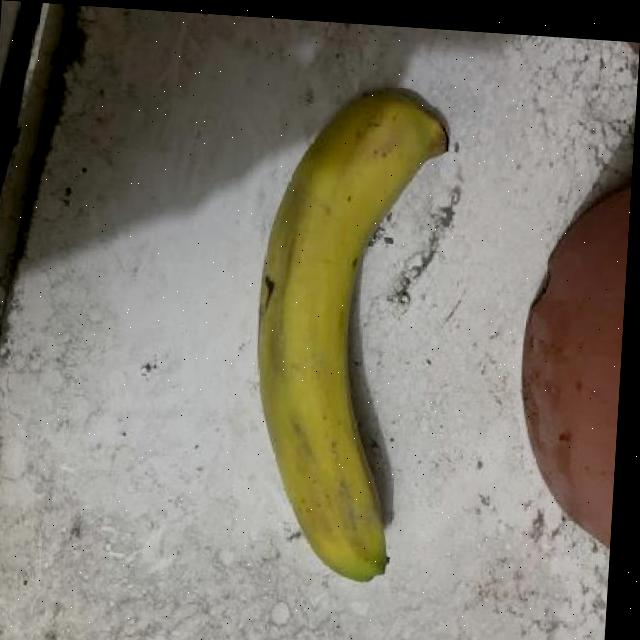banana: (234, 74, 459, 590)
